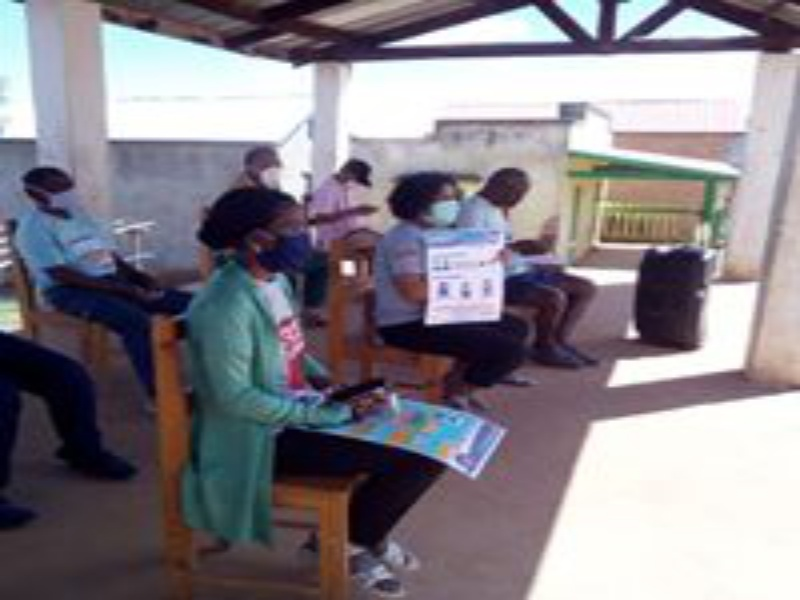ManaoArotava: (228, 175, 331, 307), (18, 157, 91, 226), (411, 171, 476, 244)
